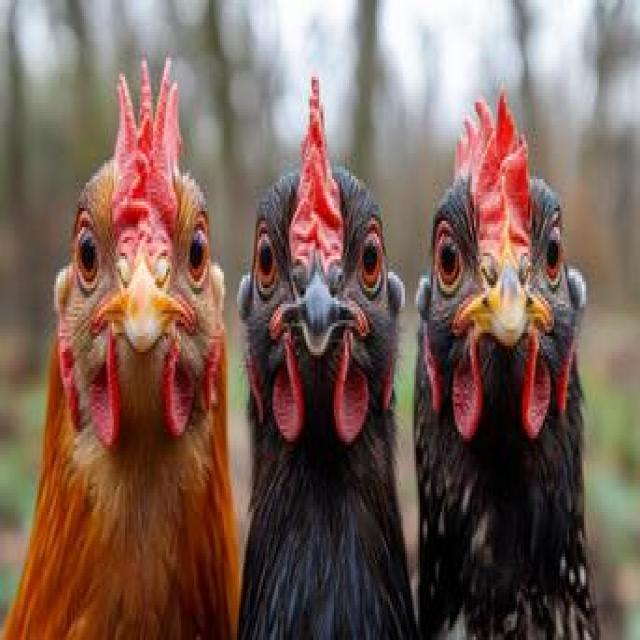Chicken: (412, 45, 625, 640), (225, 41, 416, 640), (36, 45, 228, 640)
